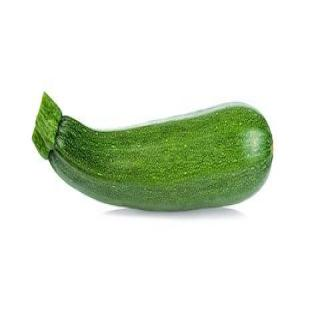Zucchini: (33, 94, 272, 211)
